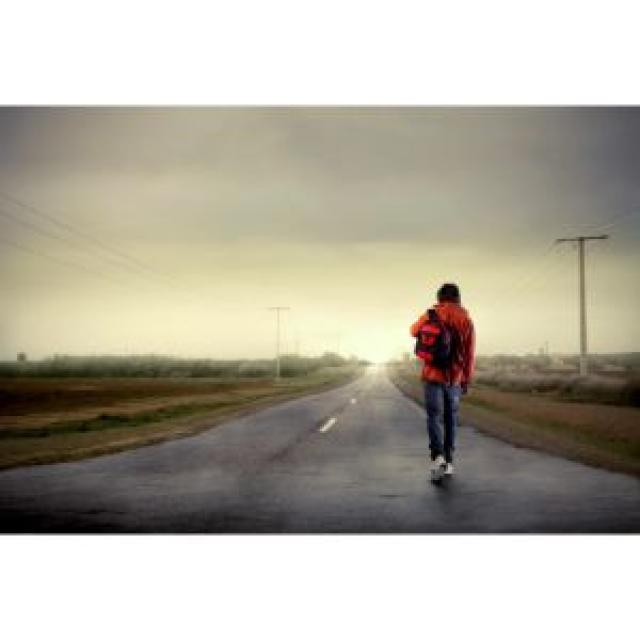nonfall: (382, 264, 499, 488)
